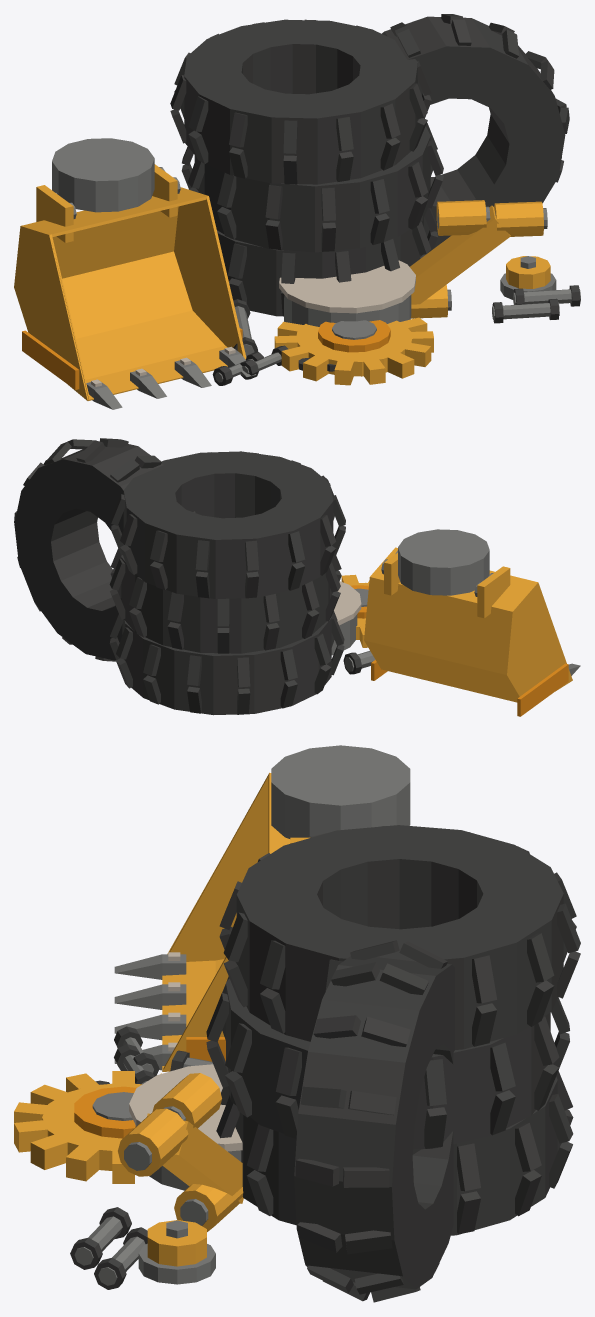
The model's file is equipment parts.fbx.
The picture shows the model from 3 angles, top to bottom: view 1: azimuth 30°, elevation 25°; view 2: azimuth 150°, elevation 25°; view 3: azimuth 270°, elevation 25°; orthographic projection. The views are drawn at different scales.
Visible parts, largest first — view 1: Equipment_Parts_Tires; view 2: Equipment_Parts_Tires; view 3: Equipment_Parts_Tires.
Part boxes in pixels (x1,y1,x2,y2): Equipment_Parts_Tires: (14,14,580,409); Equipment_Parts_Tires: (14,438,580,716); Equipment_Parts_Tires: (14,745,580,1302).
Bounding box in the file's own units: 296 × 122 × 191.
